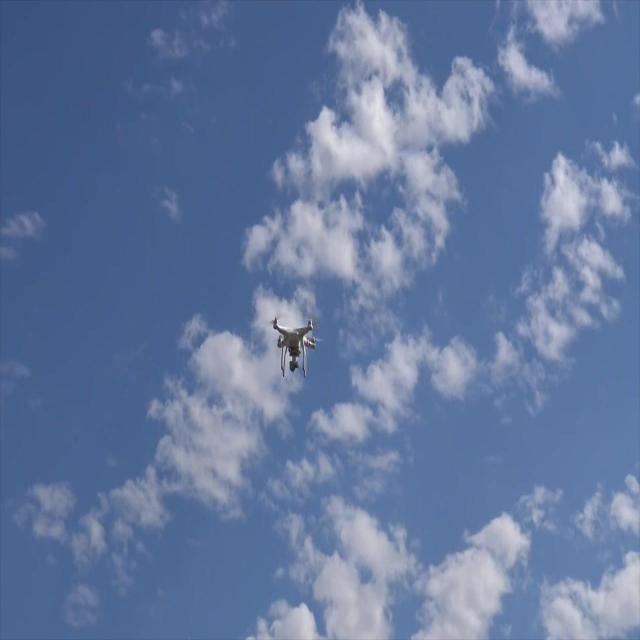drone: (270, 314, 318, 384)
